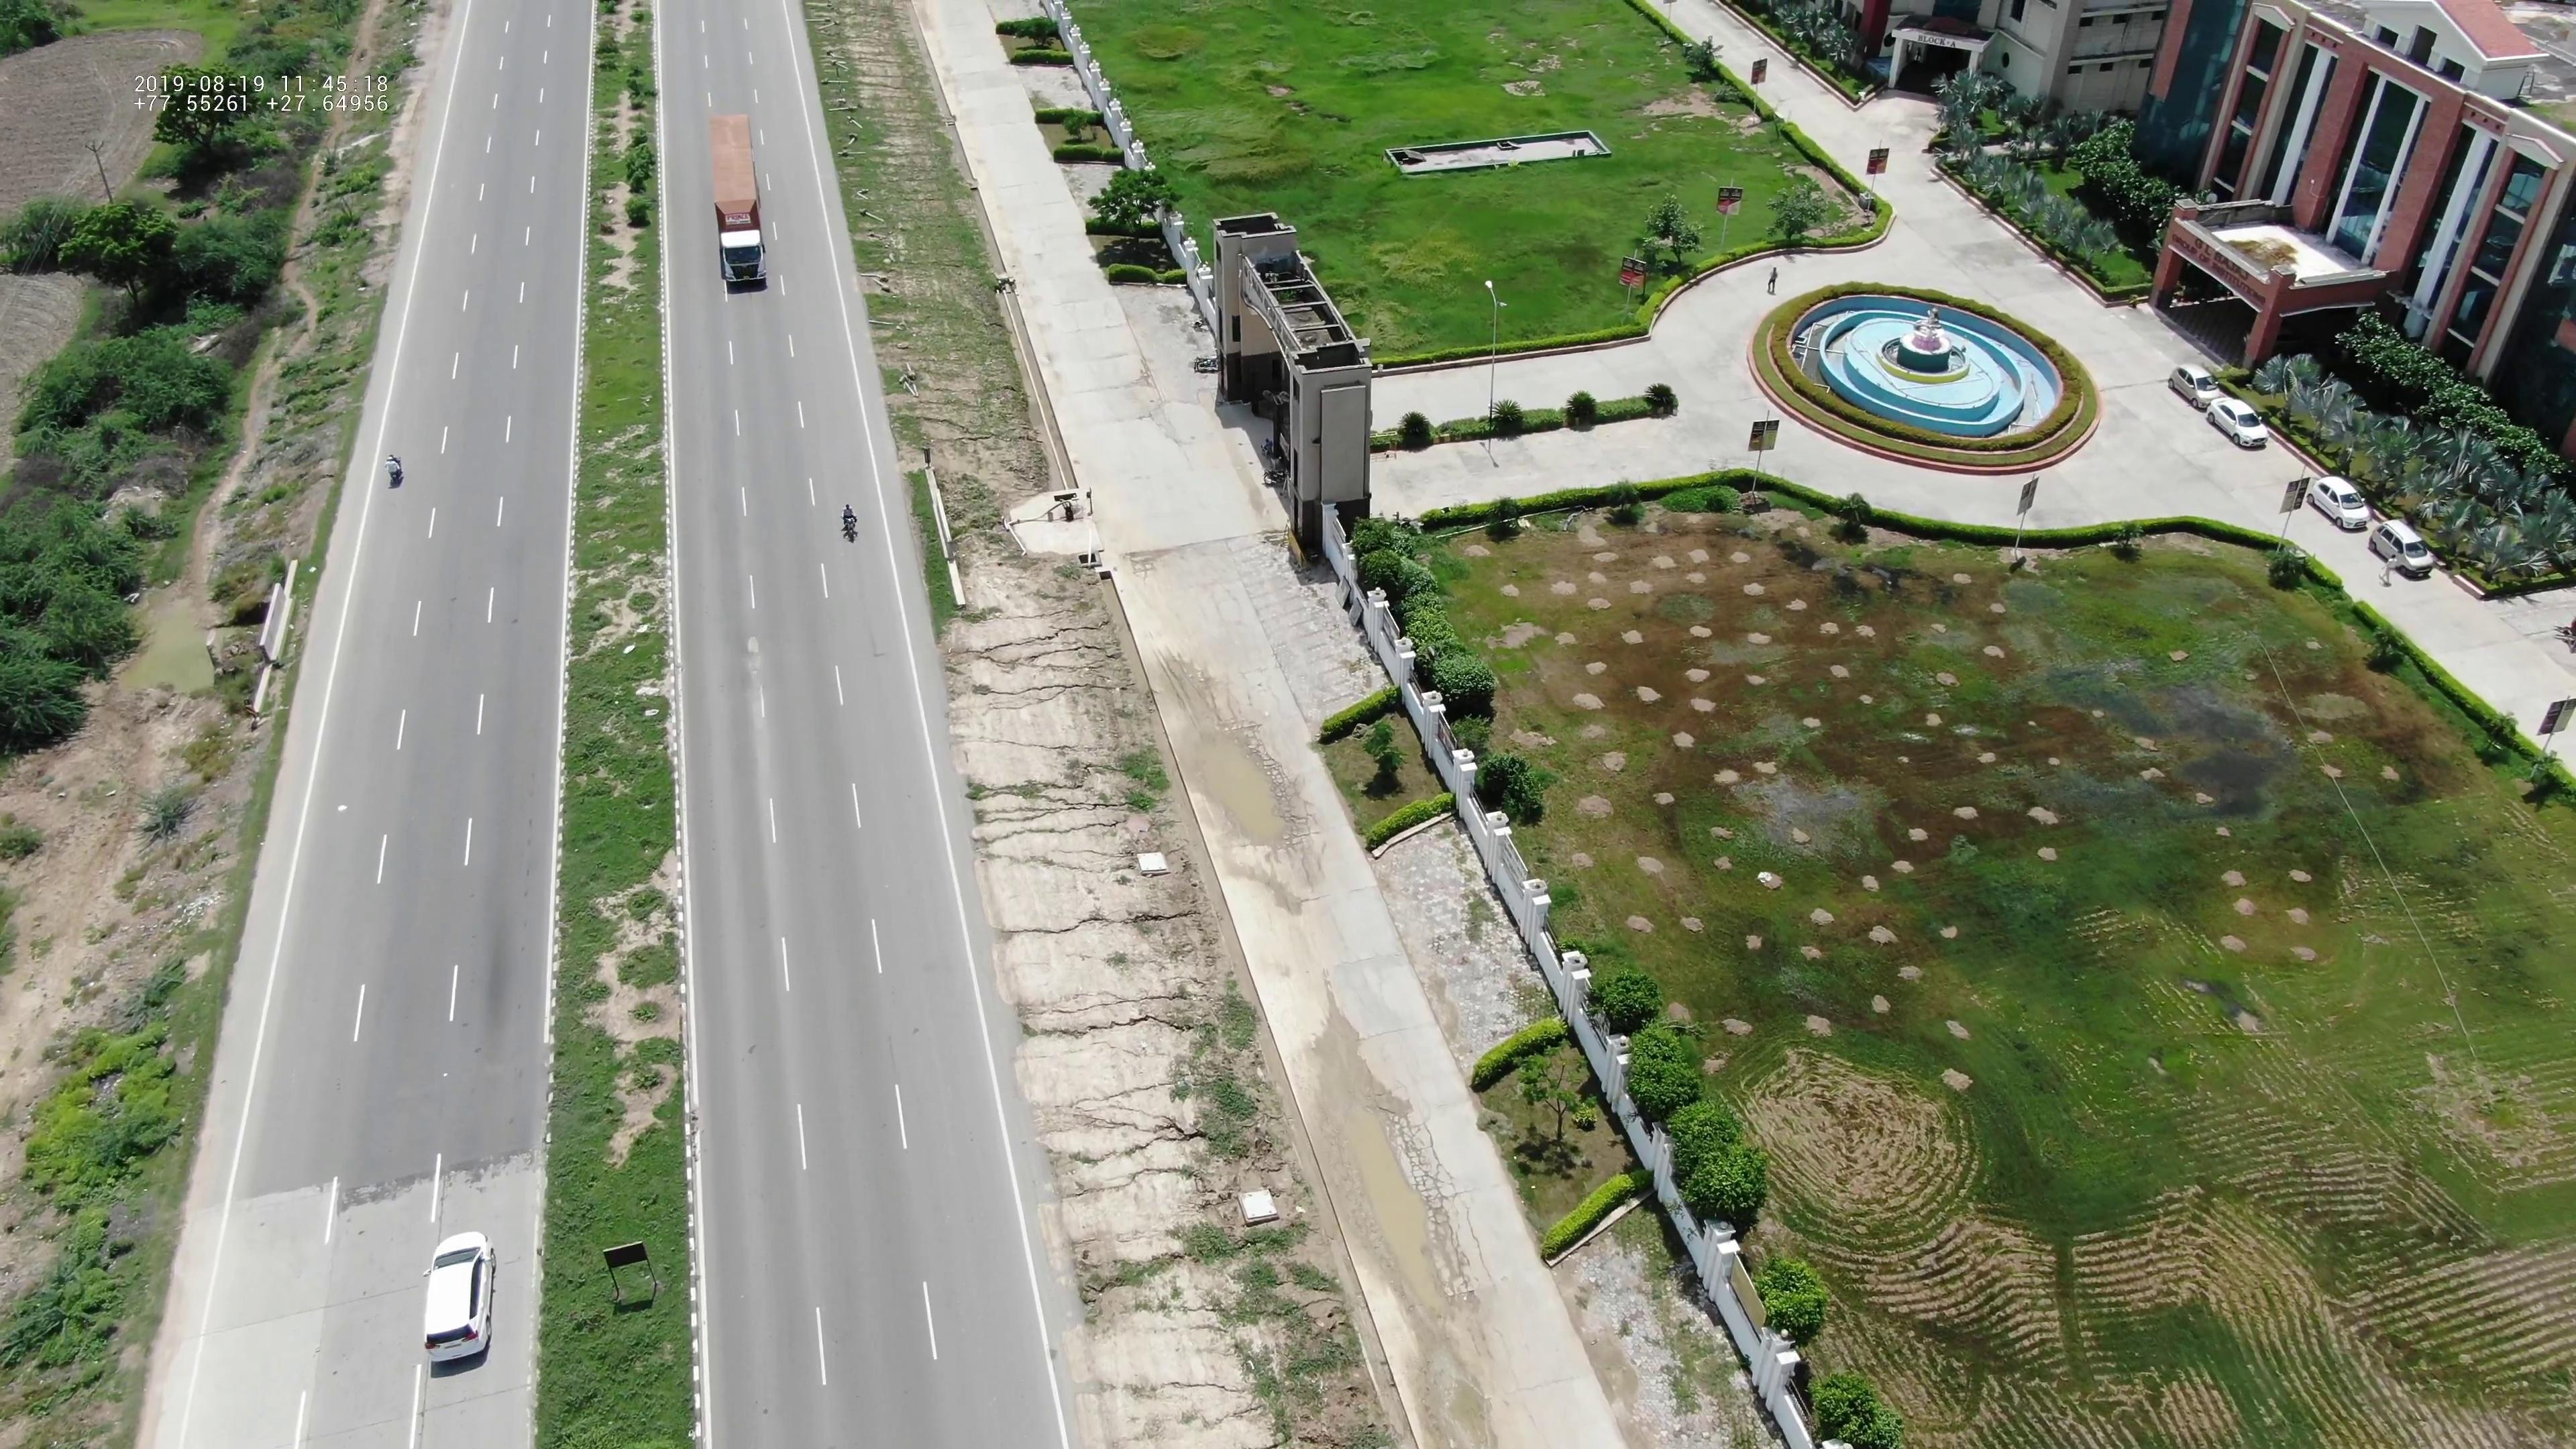Alligator_cracks: (1396, 1120, 1468, 1254)
